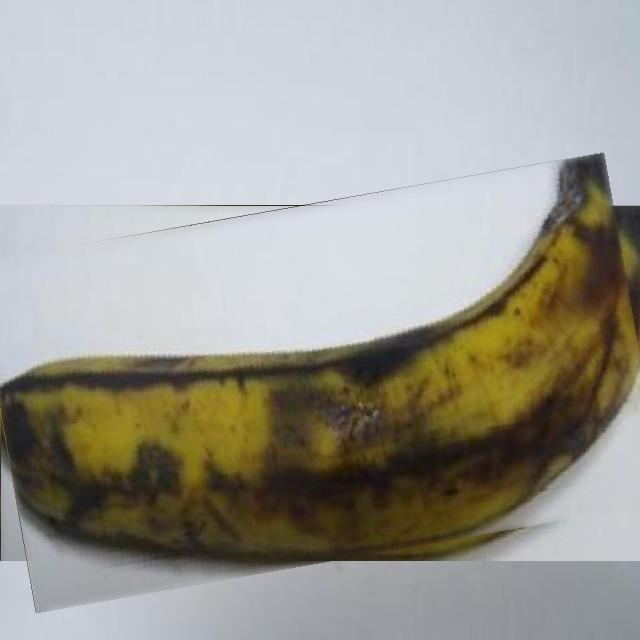Execivamente Madura: (0, 178, 640, 587)
